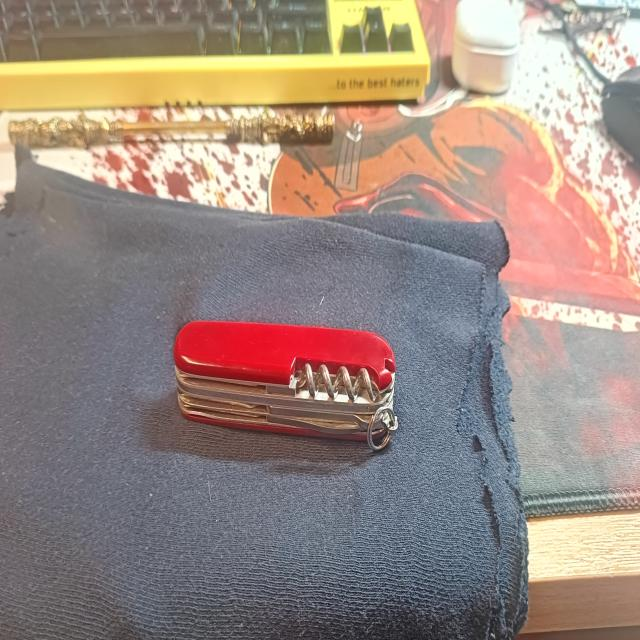knife victorinox: (172, 318, 398, 450)
